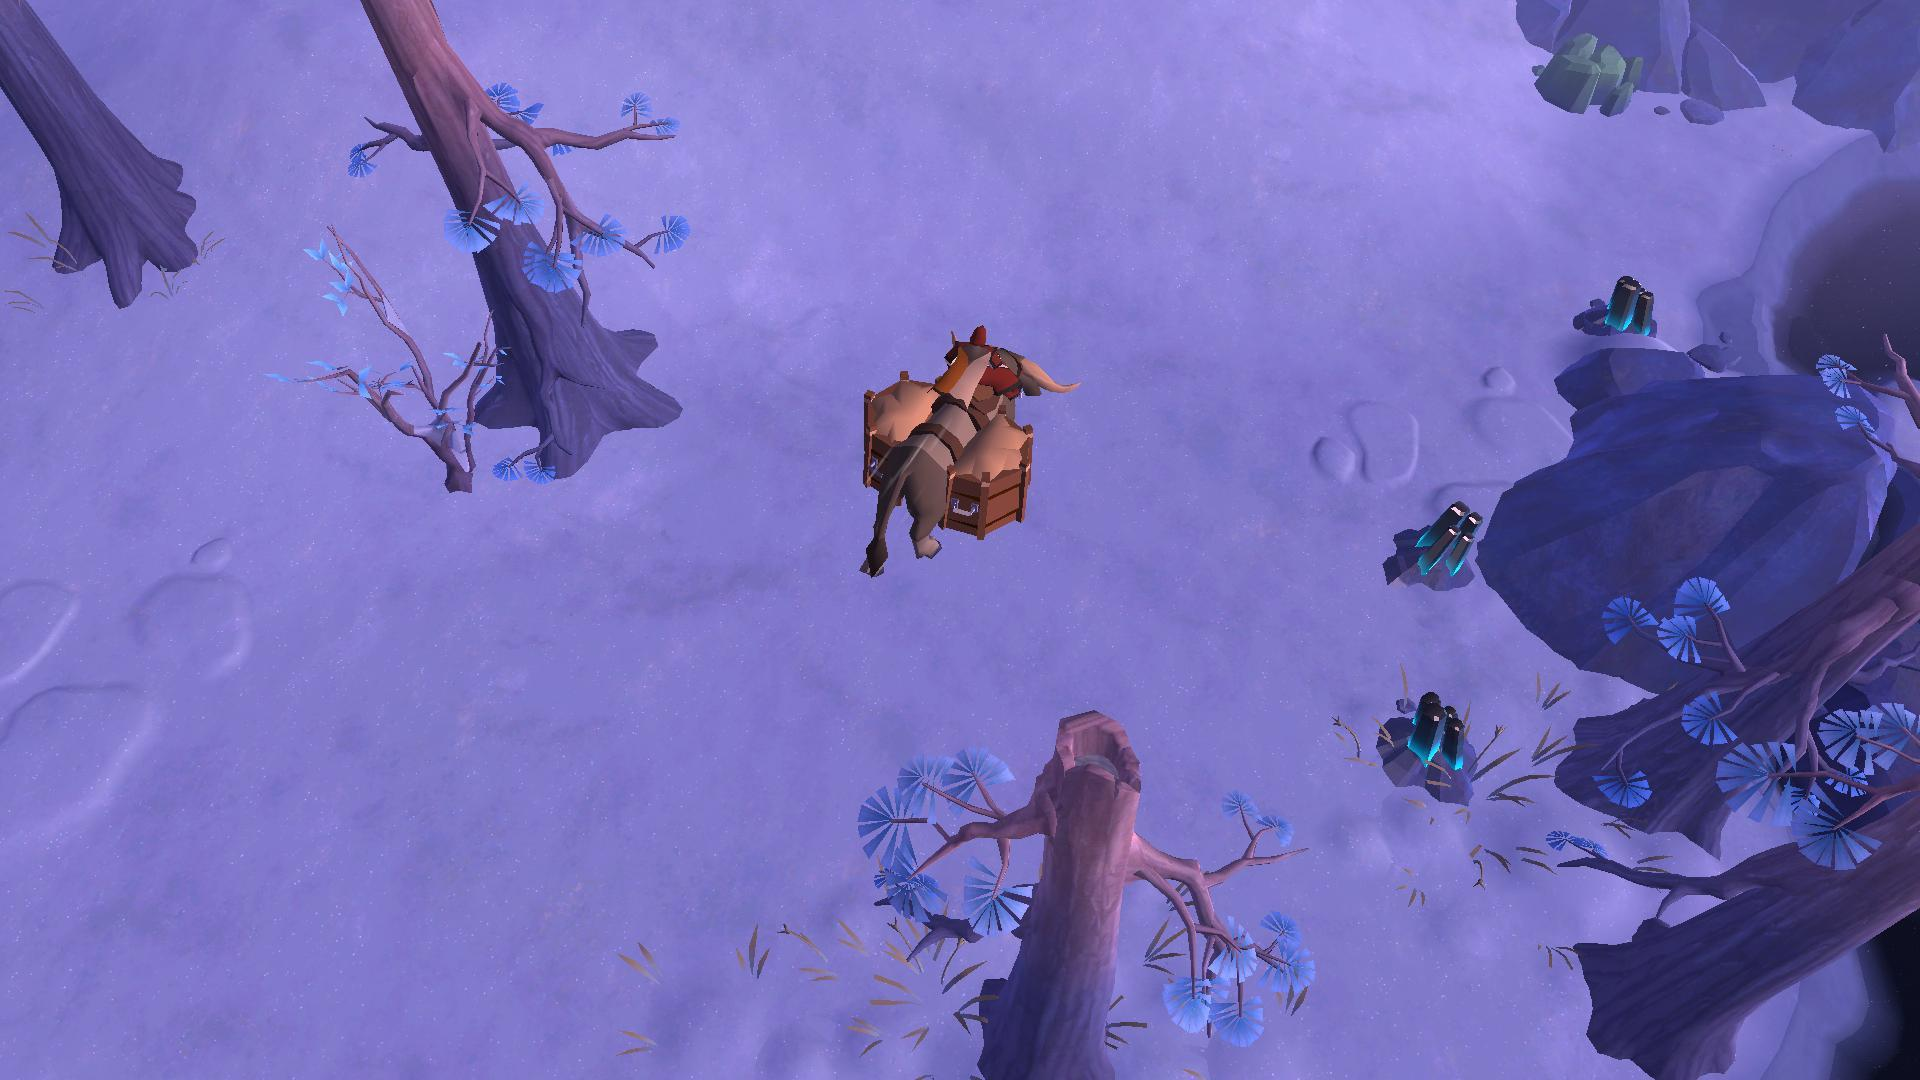ore_t4: (1399, 492, 1480, 579), (1398, 688, 1474, 778), (1604, 270, 1655, 340)
rock_t3: (1513, 38, 1655, 121)
